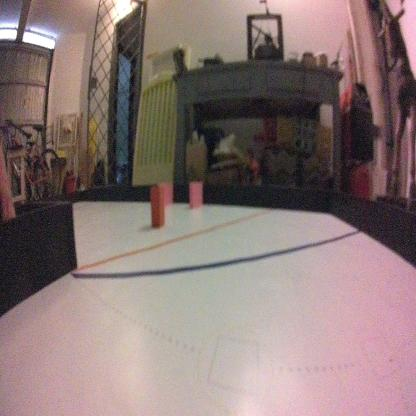magenta: (188, 177, 200, 212), (158, 183, 172, 209)
red: (149, 183, 165, 225)
